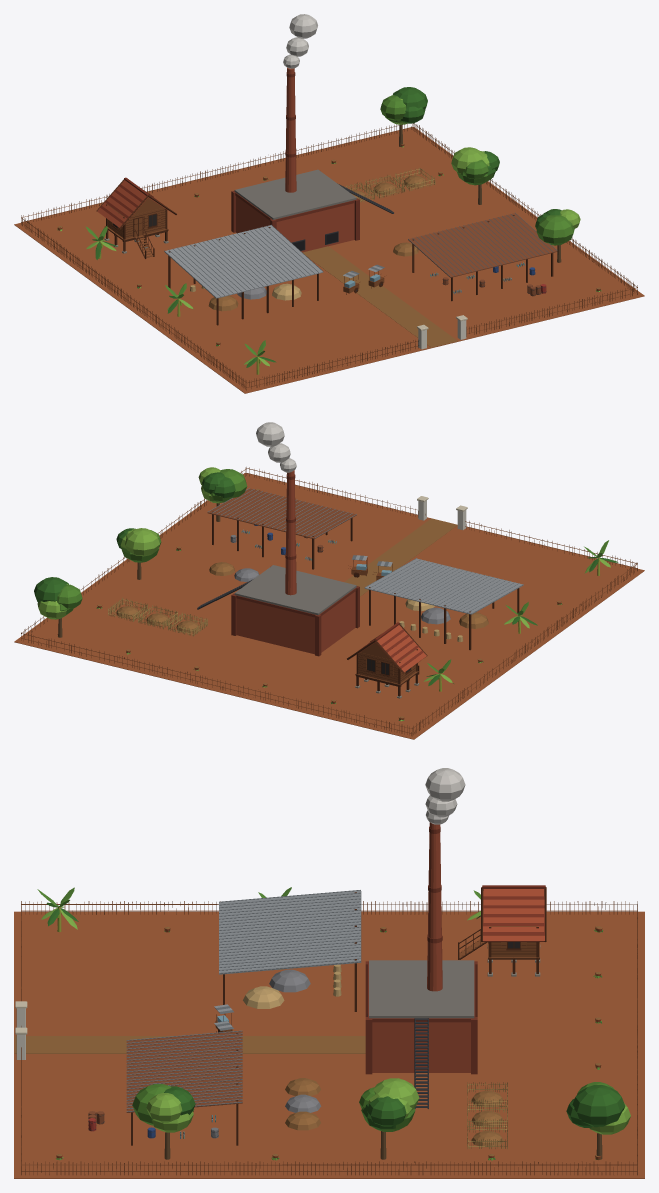
File: waste.glb
3 views of the same model, one above another, from view 1: azimuth 30°, elevation 25°; view 2: azimuth 150°, elevation 25°; view 3: azimuth 270°, elevation 25° (orthographic). The views are drawn at different scales.
Visible parts, largest first — view 1: body; view 2: body; view 3: body.
Part boxes in pixels (left/top/right/bottom): body: left=14, top=14, right=644, bottom=393; body: left=14, top=422, right=644, bottom=739; body: left=14, top=768, right=644, bottom=1178.
Size of the model in its own units: 47.9 by 24.32 by 47.9.
